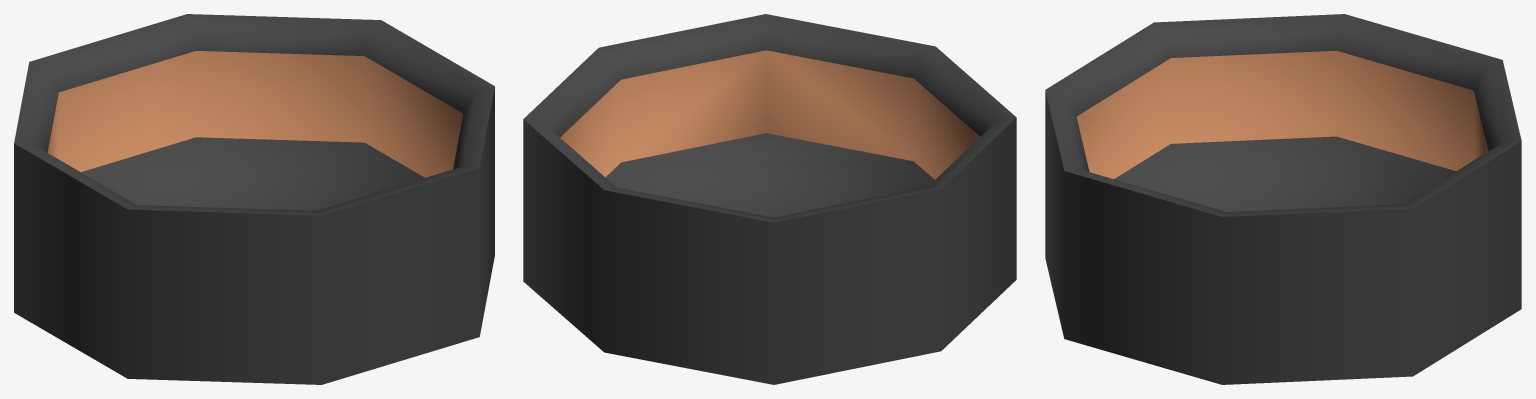
The model's file is TomabaEncaixe.fbx.
3 renders of one model, left to right at view 1: azimuth 30°, elevation 25°; view 2: azimuth 150°, elevation 25°; view 3: azimuth 270°, elevation 25°, orthographic. The views are drawn at different scales.
Parts seen in each view (by area): view 1: Tubo; view 2: Tubo; view 3: Tubo.
Boxes of the visible parts, x1,y1,x2,y2 form: Tubo: [14, 14, 494, 384]; Tubo: [523, 14, 1016, 384]; Tubo: [1045, 14, 1521, 384].
Bounding box in the file's own units: 11.74 × 4.53 × 11.64.
